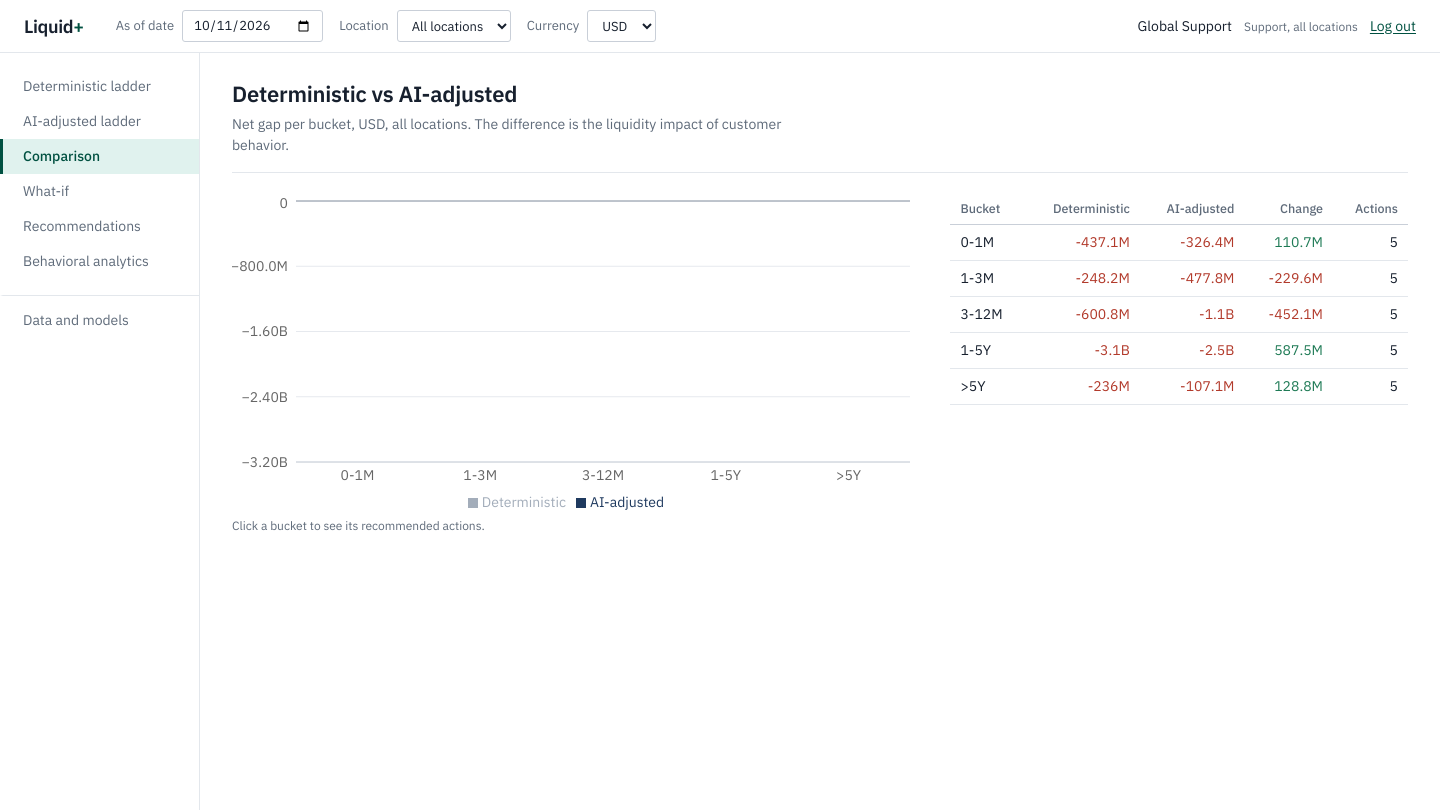
Test: comparison lists actions for a clicked bucket
Click the row "0-1M -437.1M -326.4M 110.7M 5" at (1179, 242), box x1=950 y1=224 x2=1408 y2=260
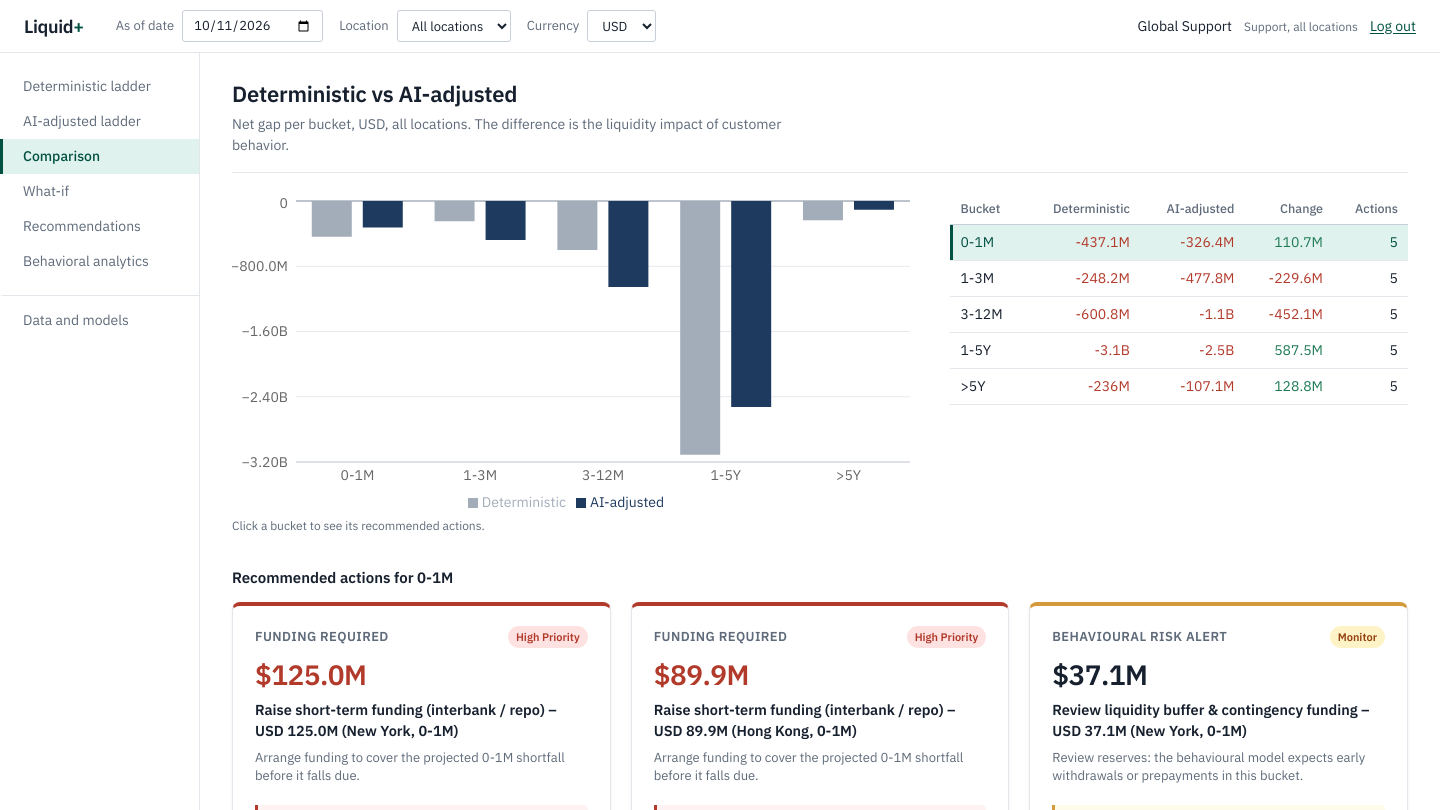
Result: the text "Raise short-term funding (interbank / repo) – USD 125.0M (New York, 0-1M)" is shown at x1=255 y1=700 x2=557 y2=740
